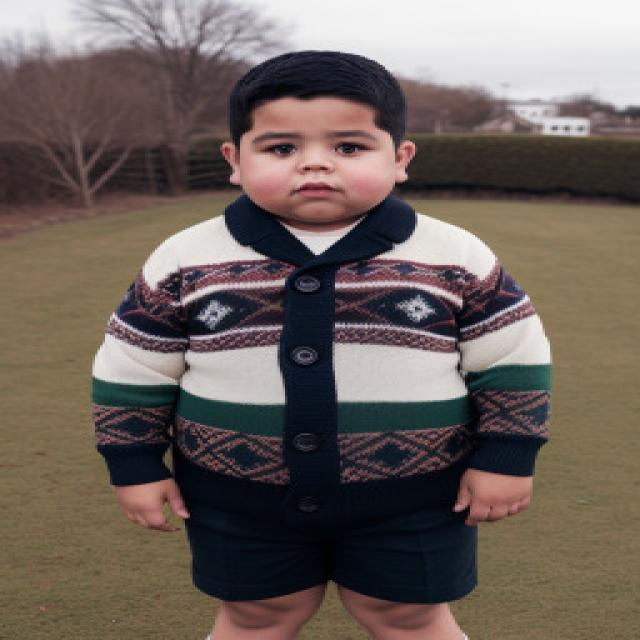Ai human 2: (80, 45, 562, 640)
